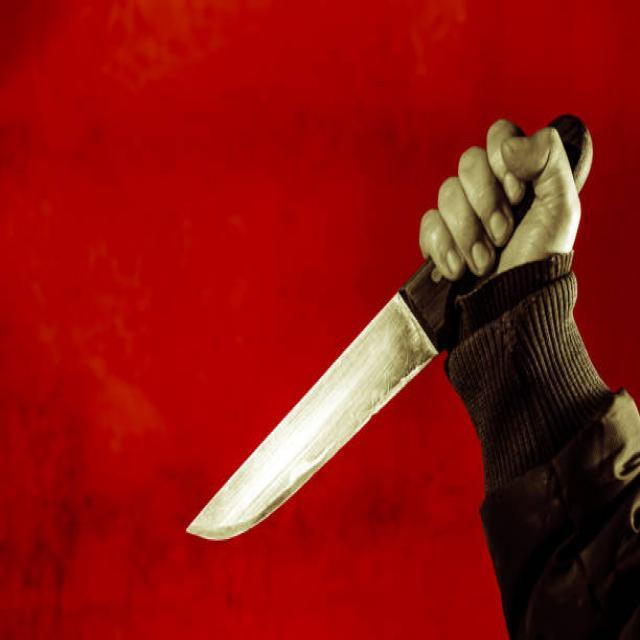faca: (152, 94, 586, 570)
